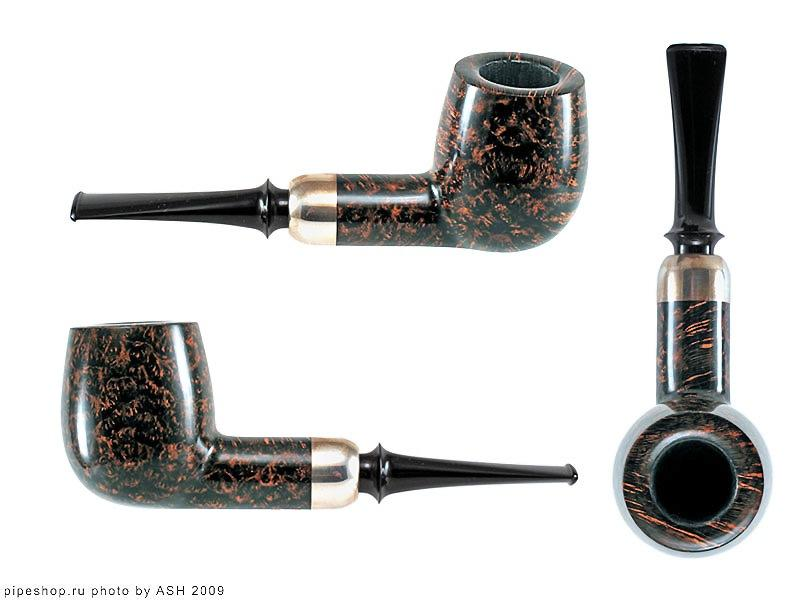trubka: (70, 52, 587, 251), (62, 323, 577, 508), (614, 44, 769, 552)
